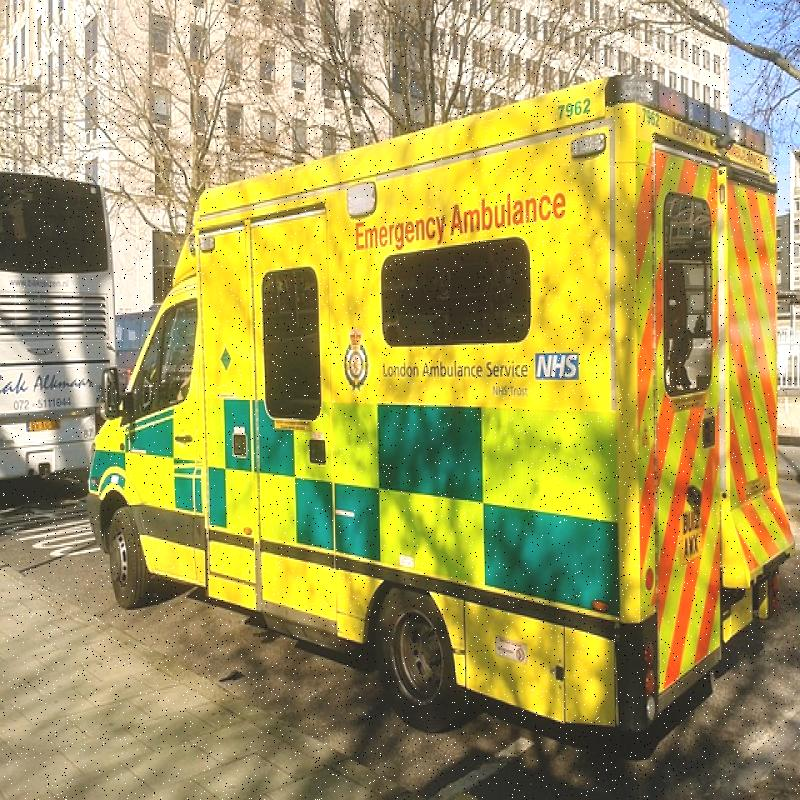ambulance: (92, 104, 728, 695)
